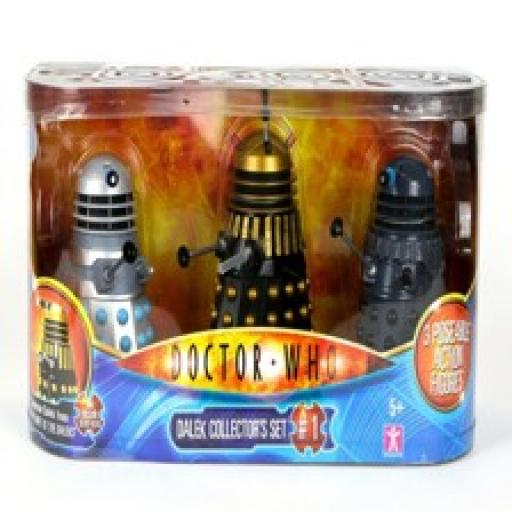dalek: (170, 124, 320, 345), (325, 139, 451, 367), (58, 151, 156, 361), (34, 293, 84, 413)
